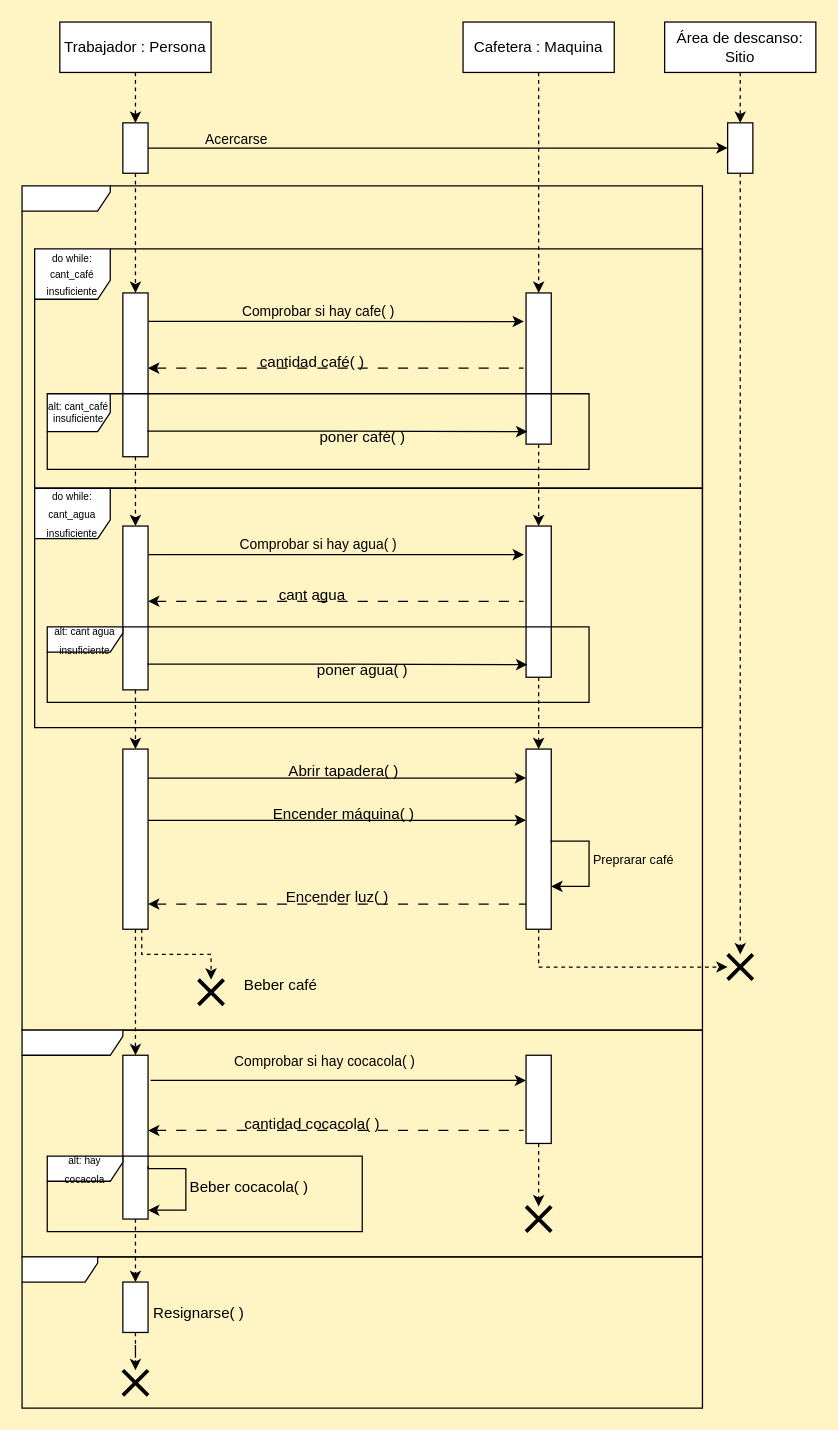
This 838x1430 diagram has some shape labels left out. The shapes that lost their labels are listed below. From the top down, each one's box as (x1, y1, x2, y2) in pixels, then its label:
(21, 185, 702, 1030): if:Hay café
(21, 1029, 702, 1257): elseif : hay cocacola
(21, 1256, 702, 1408): else : no hay cocacola
